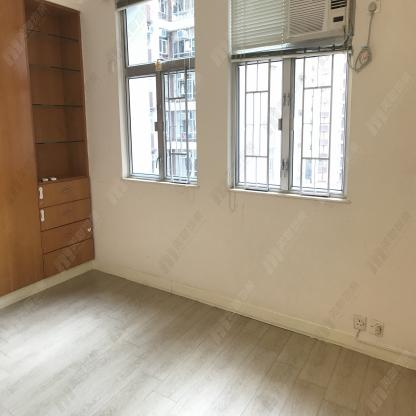AC: (288, 0, 349, 41)
Closet: (0, 0, 95, 298)
